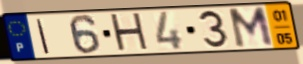3: (197, 8, 231, 51)
4: (154, 11, 186, 52)
6: (68, 14, 103, 56)
H: (108, 11, 152, 54)
I: (34, 18, 52, 55)
M: (226, 5, 276, 50)
